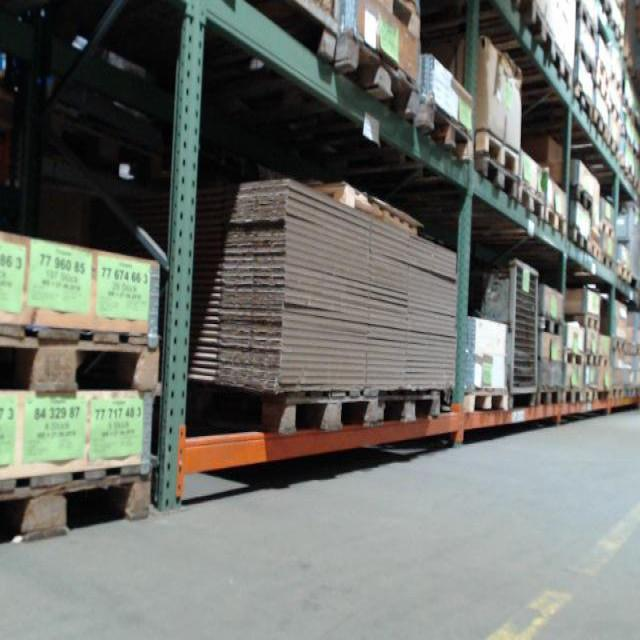pallet: (2, 445, 161, 550), (1, 312, 164, 400), (194, 379, 382, 434), (342, 32, 425, 135), (215, 4, 336, 63), (413, 91, 472, 175), (485, 3, 554, 59), (376, 387, 449, 432), (470, 119, 522, 178), (467, 155, 520, 212), (453, 387, 514, 420), (519, 179, 545, 231), (551, 39, 571, 101), (560, 177, 596, 210), (542, 203, 568, 247), (569, 80, 591, 130), (530, 380, 564, 410), (573, 39, 599, 77), (575, 3, 599, 39), (565, 309, 605, 330), (536, 309, 569, 333), (592, 106, 611, 145), (567, 224, 587, 261), (564, 383, 586, 411), (594, 217, 619, 239), (562, 345, 587, 363), (590, 240, 604, 271), (601, 250, 615, 277), (582, 389, 600, 407), (583, 351, 600, 364)
stillage: (455, 257, 543, 413), (612, 200, 638, 288)
